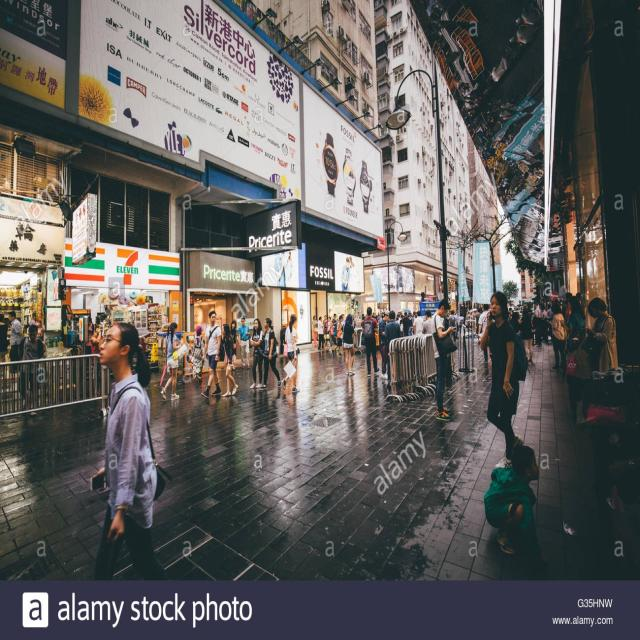body: (92, 321, 173, 579), (479, 288, 530, 470), (481, 441, 541, 557), (430, 296, 459, 422), (582, 296, 618, 373), (16, 323, 45, 416), (200, 309, 225, 399), (214, 321, 239, 398), (160, 322, 183, 402), (281, 312, 301, 393), (260, 317, 282, 390), (362, 310, 418, 338), (559, 294, 586, 352), (383, 309, 402, 388), (360, 305, 380, 378), (549, 298, 568, 371), (248, 317, 266, 390), (508, 304, 553, 332), (8, 310, 25, 374), (90, 321, 104, 397), (340, 312, 356, 378), (477, 302, 492, 365), (191, 325, 206, 383), (378, 310, 390, 380), (336, 254, 356, 293), (520, 308, 534, 363), (238, 316, 252, 370), (228, 320, 242, 372), (277, 251, 295, 289), (0, 312, 9, 376), (331, 314, 344, 358), (448, 312, 489, 324), (532, 300, 542, 348), (335, 314, 346, 353), (562, 292, 573, 329), (447, 309, 458, 343), (316, 315, 325, 351), (412, 310, 424, 336), (474, 308, 483, 342), (421, 308, 432, 334), (101, 313, 109, 348), (458, 311, 466, 344), (401, 311, 410, 337), (87, 316, 95, 344), (312, 314, 318, 346), (322, 314, 329, 334), (106, 312, 113, 332), (332, 313, 338, 336), (546, 304, 554, 318), (327, 316, 332, 334), (94, 316, 100, 330), (542, 306, 548, 319)
